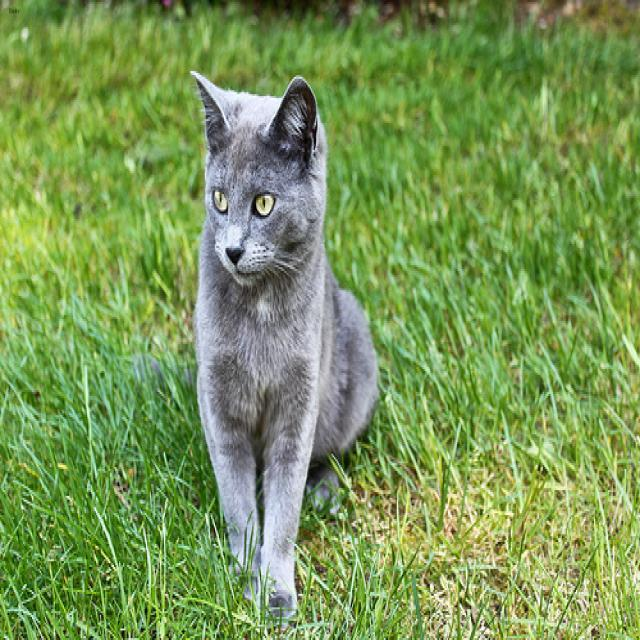Russian_Blue: (183, 64, 331, 300)
